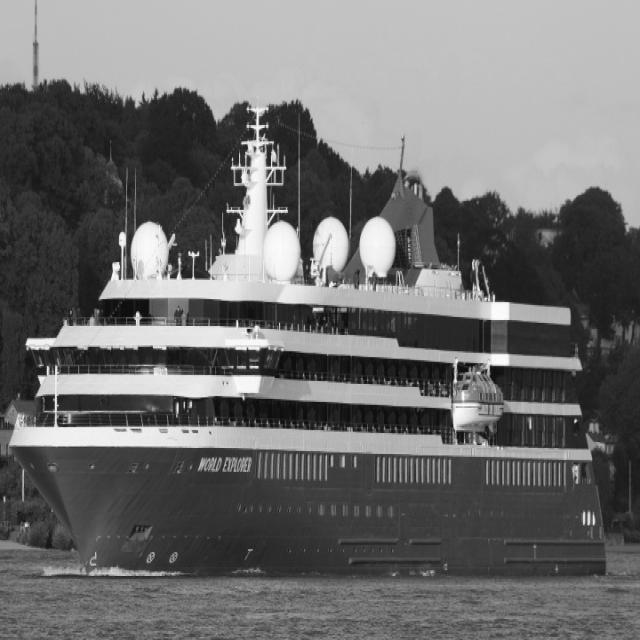cruises: (4, 100, 623, 582)
